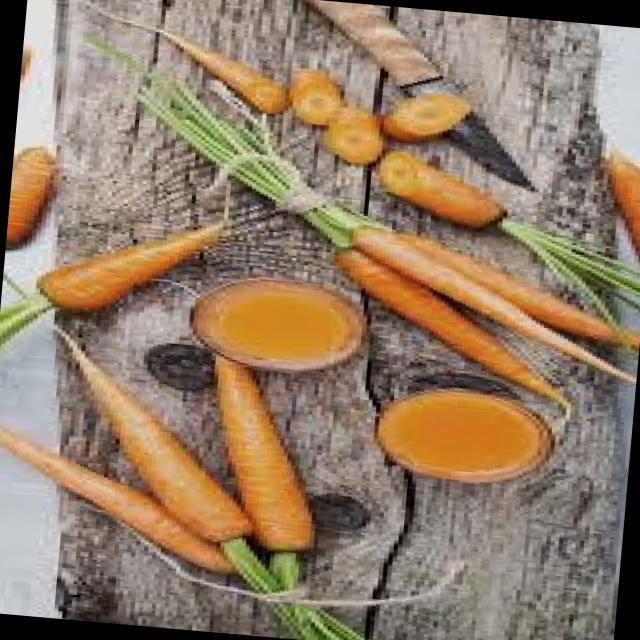Carrot: (328, 215, 640, 393), (35, 311, 272, 544), (306, 246, 590, 416), (180, 326, 338, 560), (44, 208, 234, 324), (389, 152, 489, 232), (593, 133, 640, 289), (6, 138, 56, 245), (384, 92, 480, 140), (325, 106, 383, 168), (288, 68, 344, 128)
